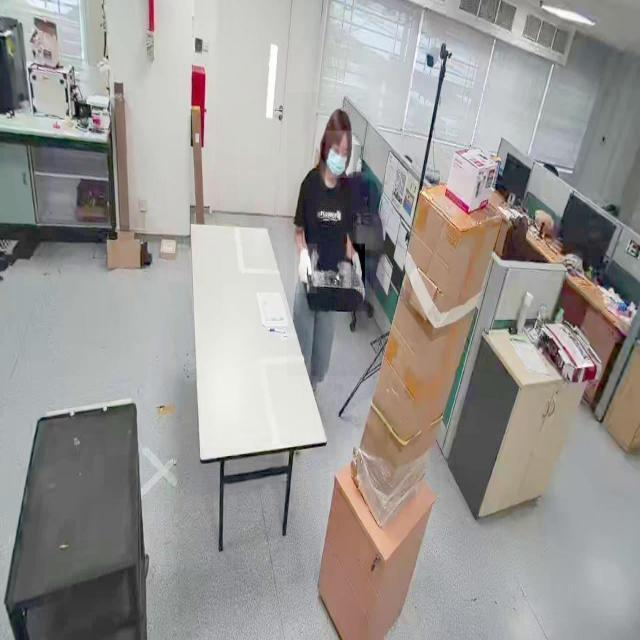gloves: (294, 243, 318, 294), (350, 244, 366, 288)
